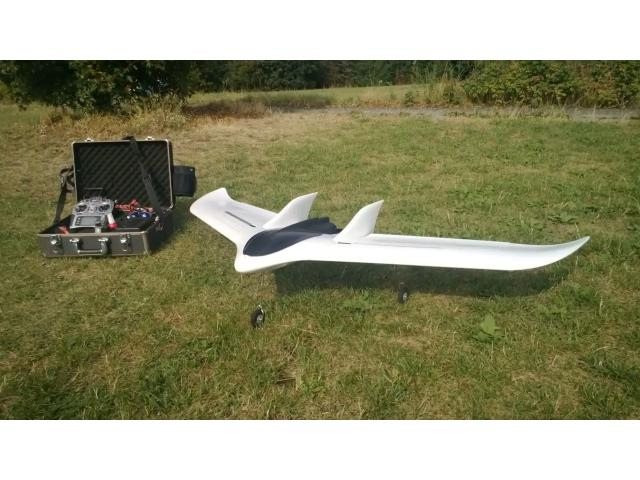Anti-Drone: (161, 158, 603, 308)
